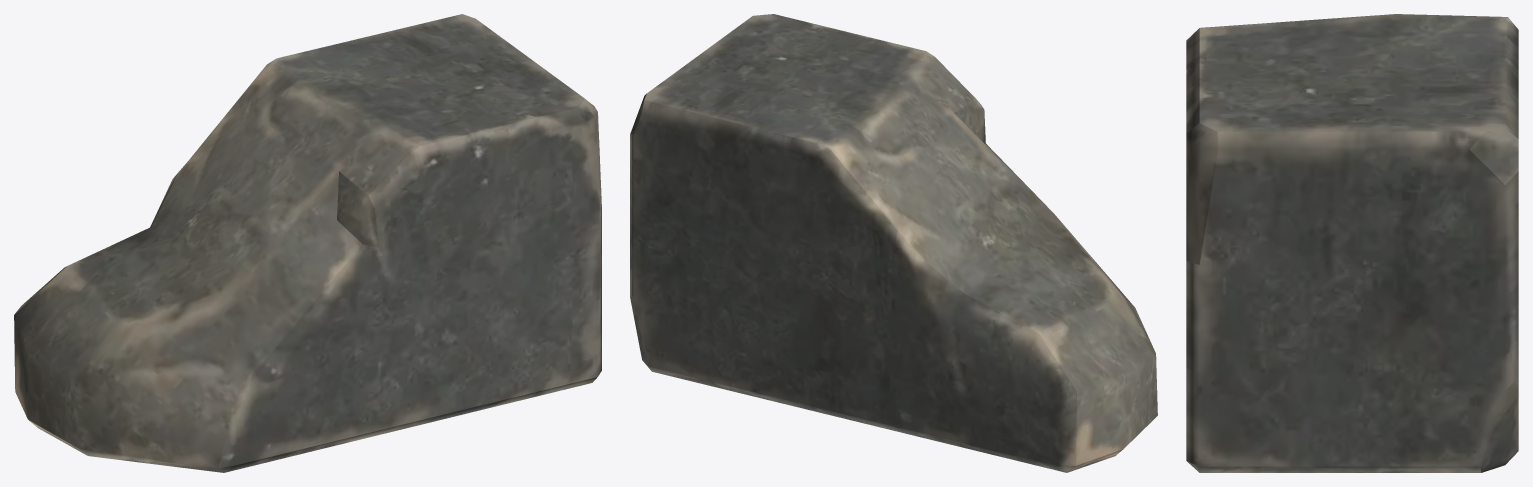
3 views of the same model, side by side, from view 1: azimuth 30°, elevation 25°; view 2: azimuth 150°, elevation 25°; view 3: azimuth 270°, elevation 25° (orthographic). The views are drawn at different scales.
Parts seen in each view (by area): view 1: SM_SaradominTemple_Brick_03_LOD0; view 2: SM_SaradominTemple_Brick_03_LOD0; view 3: SM_SaradominTemple_Brick_03_LOD0.
Boxes of the visible parts, x1,y1,x2,y2 form: SM_SaradominTemple_Brick_03_LOD0: [14, 14, 601, 472]; SM_SaradominTemple_Brick_03_LOD0: [630, 14, 1157, 472]; SM_SaradominTemple_Brick_03_LOD0: [1186, 14, 1518, 472].
Size of the model in its own units: 1.12 by 0.6231 by 0.5476.
Materials: 1 (1 with a texture image).
